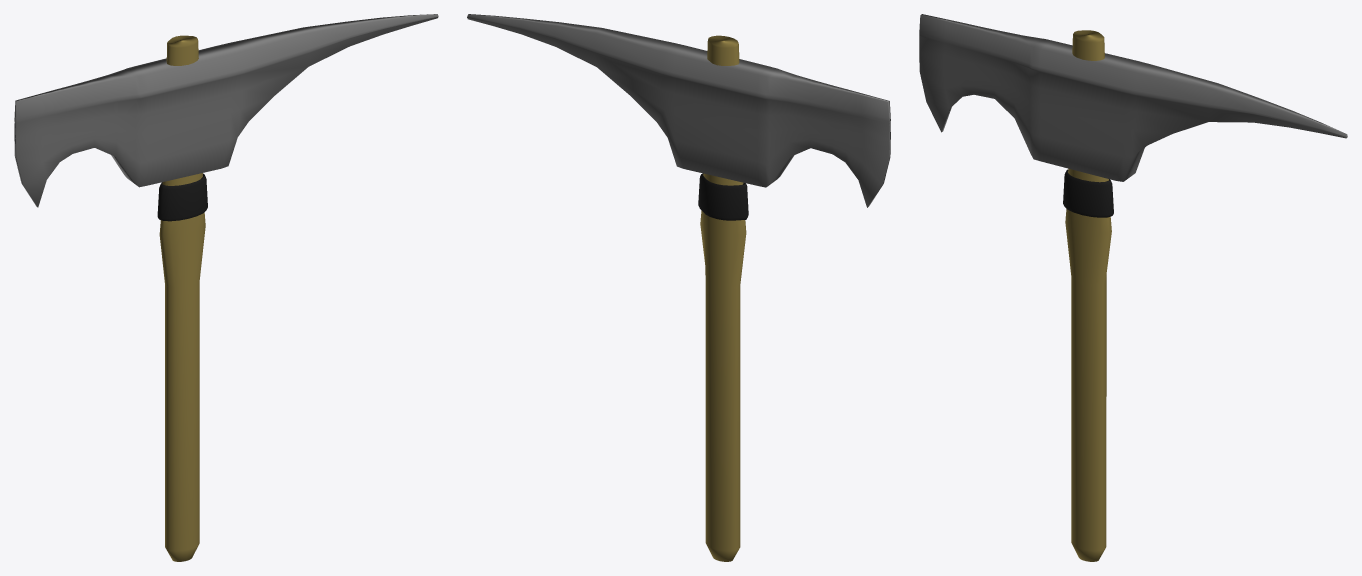
File: Pick.fbx
The picture shows the model from 3 angles, left to right: view 1: azimuth 30°, elevation 25°; view 2: azimuth 150°, elevation 25°; view 3: azimuth 330°, elevation 25°; orthographic projection.
Parts seen in each view (by area): view 1: Cube, Cylinder, Cylinder.001; view 2: Cube, Cylinder, Cylinder.001; view 3: Cube, Cylinder, Cylinder.001.
Boxes of the visible parts, x1,y1,x2,y2 form: Cube: (14, 14, 438, 207); Cylinder: (159, 35, 205, 561); Cylinder.001: (157, 173, 207, 221); Cube: (467, 14, 890, 207); Cylinder: (700, 35, 746, 561); Cylinder.001: (698, 173, 748, 220); Cube: (919, 14, 1347, 181); Cylinder: (1065, 30, 1111, 561); Cylinder.001: (1063, 169, 1113, 217).
Size of the model in its own units: 50.52 by 59.12 by 3.56.
